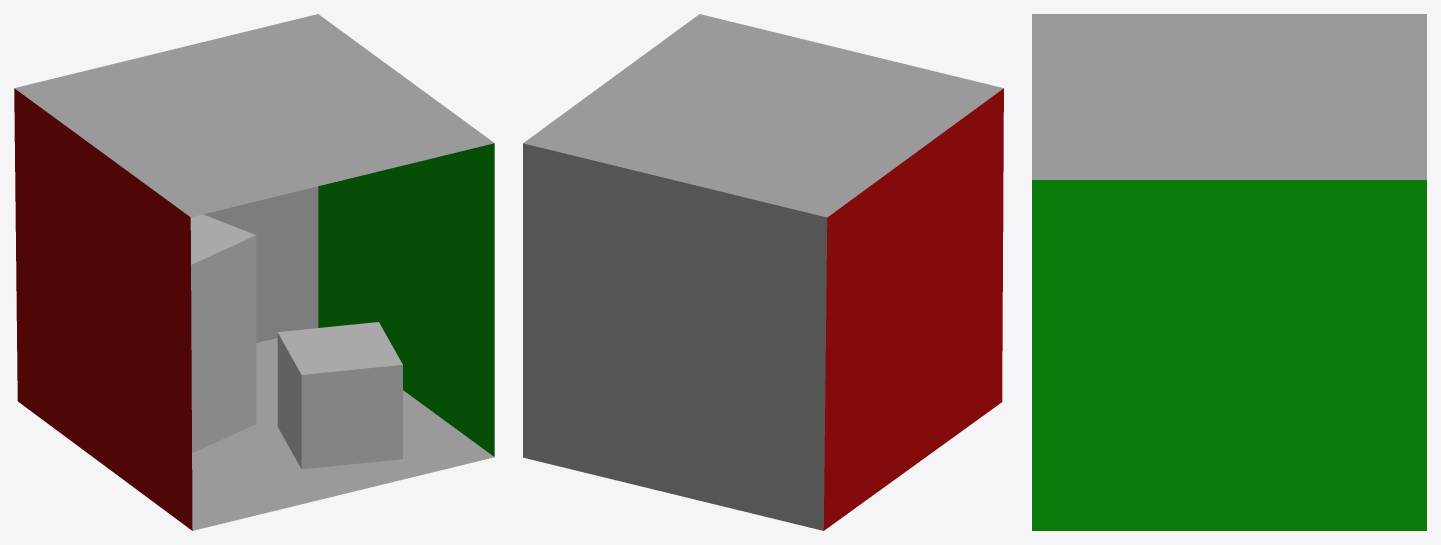
File: cornell_box.glb
3 renders of one model, left to right at view 1: azimuth 30°, elevation 25°; view 2: azimuth 150°, elevation 25°; view 3: azimuth 270°, elevation 25°, orthographic. The views are drawn at different scales.
Parts seen in each view (by area): view 1: cbox, cbox_red, cbox_green, small_box, large_box; view 2: cbox, cbox_red; view 3: cbox_green, cbox.
Part boxes in pixels (box(x1,y1,x2,y2)): cbox: box(14, 14, 494, 530); cbox_red: box(14, 88, 192, 530); cbox_green: box(318, 143, 494, 456); small_box: box(277, 322, 402, 469); large_box: box(190, 214, 256, 453); cbox: box(523, 14, 1003, 530); cbox_red: box(823, 88, 1003, 530); cbox_green: box(1032, 180, 1426, 530); cbox: box(1032, 14, 1426, 179).
Size of the model in its own units: 556 by 549 by 559.
